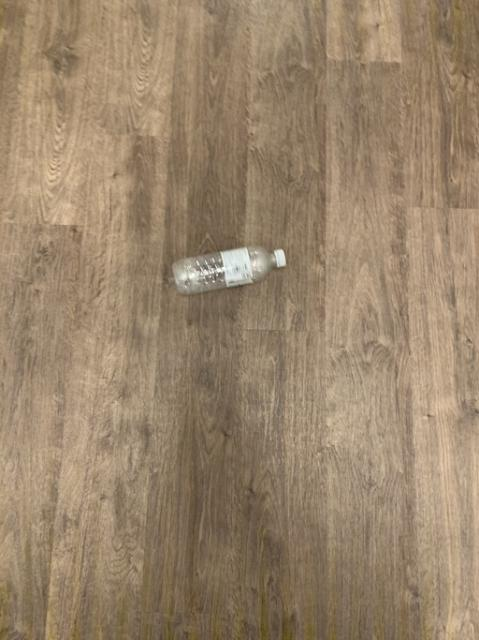plastic: (171, 246, 285, 292)
